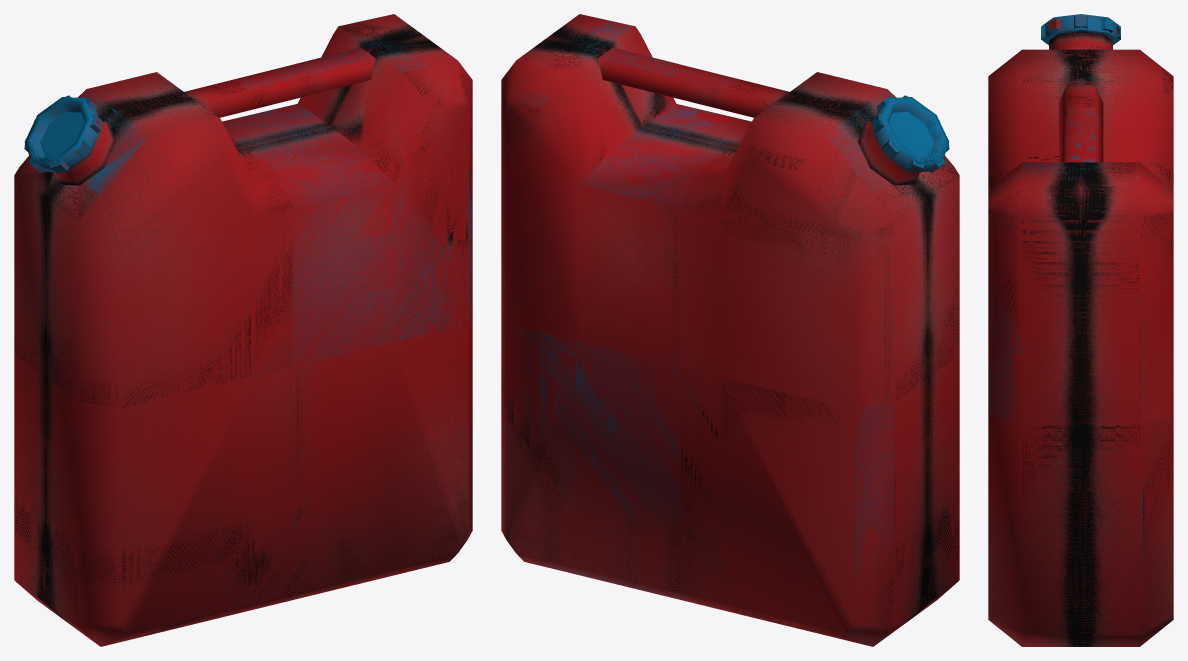
File: Can.fbx
3 views of the same model, side by side, from view 1: azimuth 30°, elevation 25°; view 2: azimuth 150°, elevation 25°; view 3: azimuth 270°, elevation 25° (orthographic). The views are drawn at different scales.
Parts seen in each view (by area): view 1: can_a1; view 2: can_a1; view 3: can_a1.
Part boxes in pixels (<box>): can_a1: <box>14,14,472,646</box>; can_a1: <box>501,14,959,646</box>; can_a1: <box>988,14,1173,646</box>.
Size of the model in its own units: 596 by 726 by 253.
